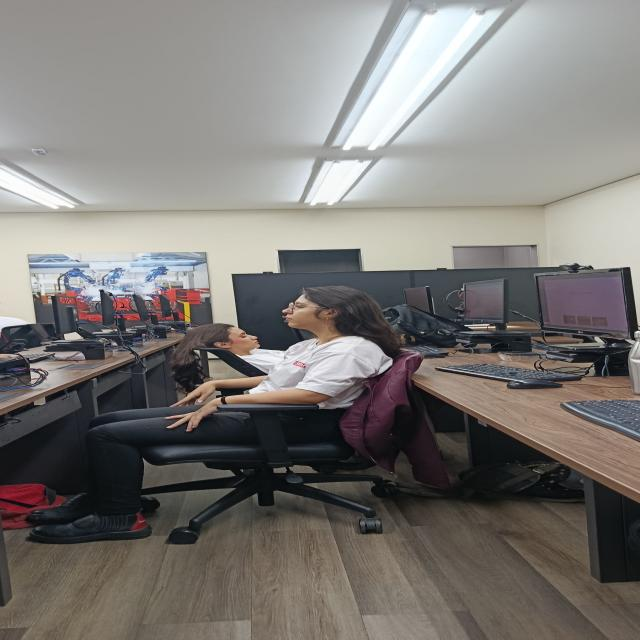sem_oculos: (289, 303, 329, 311), (227, 333, 254, 341)
